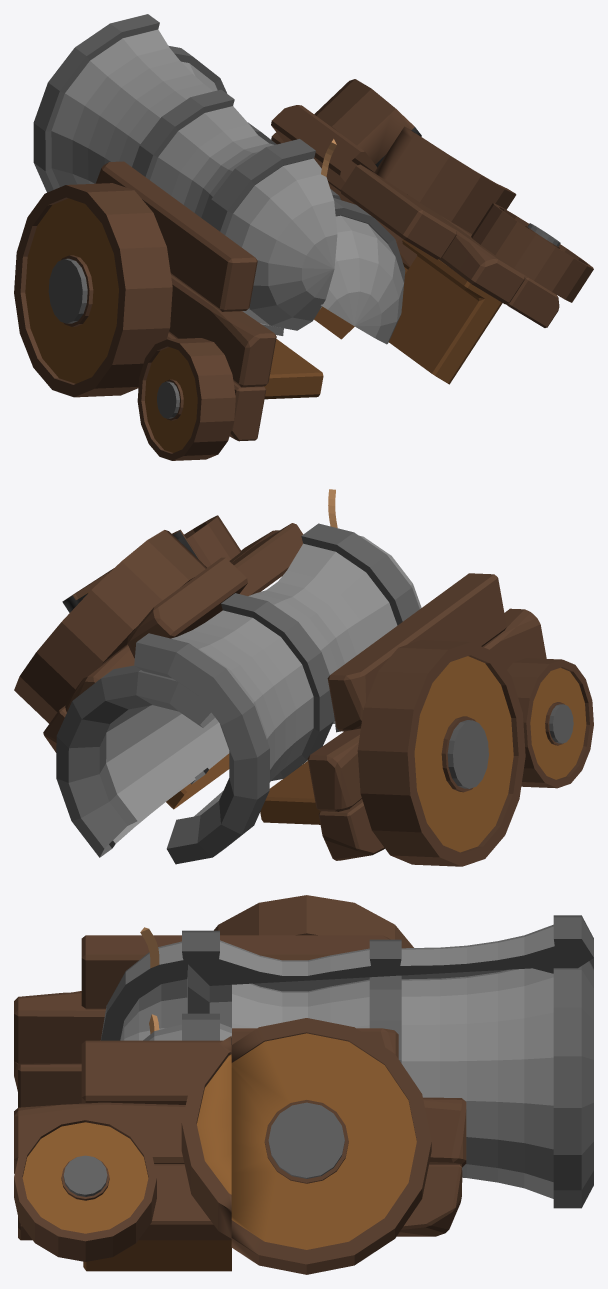
File: CannonBroken.fbx
The picture shows the model from 3 angles, top to bottom: view 1: azimuth 30°, elevation 25°; view 2: azimuth 150°, elevation 25°; view 3: azimuth 270°, elevation 25°; orthographic projection. The views are drawn at different scales.
Visible parts, largest first — view 1: Cannon; view 2: Cannon; view 3: Cannon.
Boxes of the visible parts, x1,y1,x2,y2 form: Cannon: (14, 14, 593, 460); Cannon: (14, 489, 593, 866); Cannon: (14, 895, 593, 1274).
Size of the model in its own units: 552 by 310 by 538.
